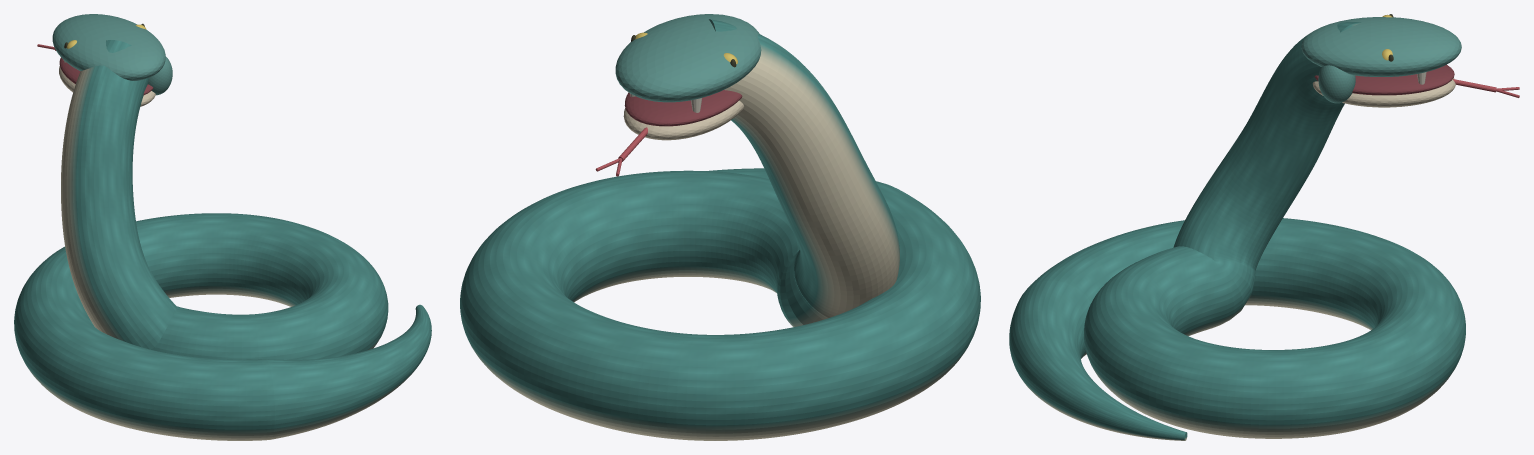
Rendered from serpent-coiled-v2.glb.
3 renders of one model, left to right at view 1: azimuth 30°, elevation 25°; view 2: azimuth 150°, elevation 25°; view 3: azimuth 270°, elevation 25°, orthographic. The views are drawn at different scales.
Visible parts, largest first — view 1: coiled_body, upper_jaw, jaw_hinge_1; view 2: coiled_body, upper_jaw, mouth_interior, lower_jaw; view 3: coiled_body, upper_jaw, mouth_interior, lower_jaw, jaw_hinge_1.
Part boxes in pixels (x1,y1,x2,y2): coiled_body: (14, 40, 431, 440); upper_jaw: (52, 14, 165, 80); jaw_hinge_1: (148, 56, 172, 95); coiled_body: (460, 19, 980, 440); upper_jaw: (615, 14, 761, 102); mouth_interior: (624, 90, 742, 126); lower_jaw: (623, 100, 744, 140); coiled_body: (1009, 22, 1465, 440); upper_jaw: (1301, 17, 1461, 76); mouth_interior: (1314, 64, 1454, 95); lower_jaw: (1312, 78, 1455, 107); jaw_hinge_1: (1318, 65, 1355, 103).
Bounding box in the file's own units: 1.57 × 1.26 × 1.78.
